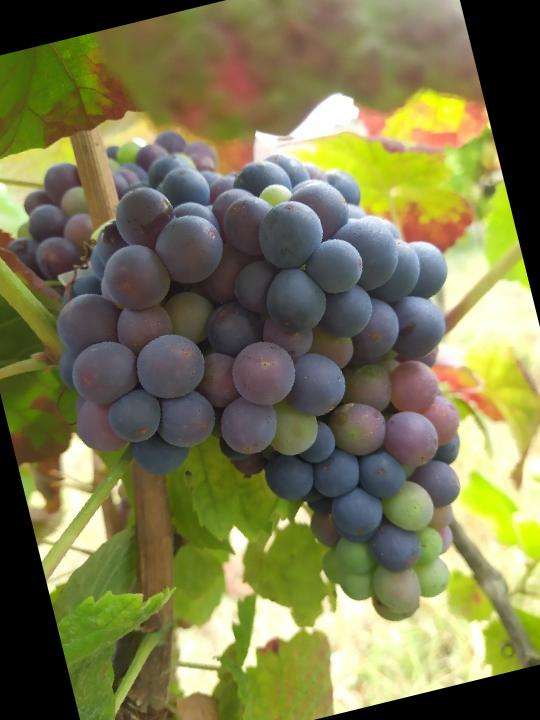grape: (15, 96, 530, 688)
